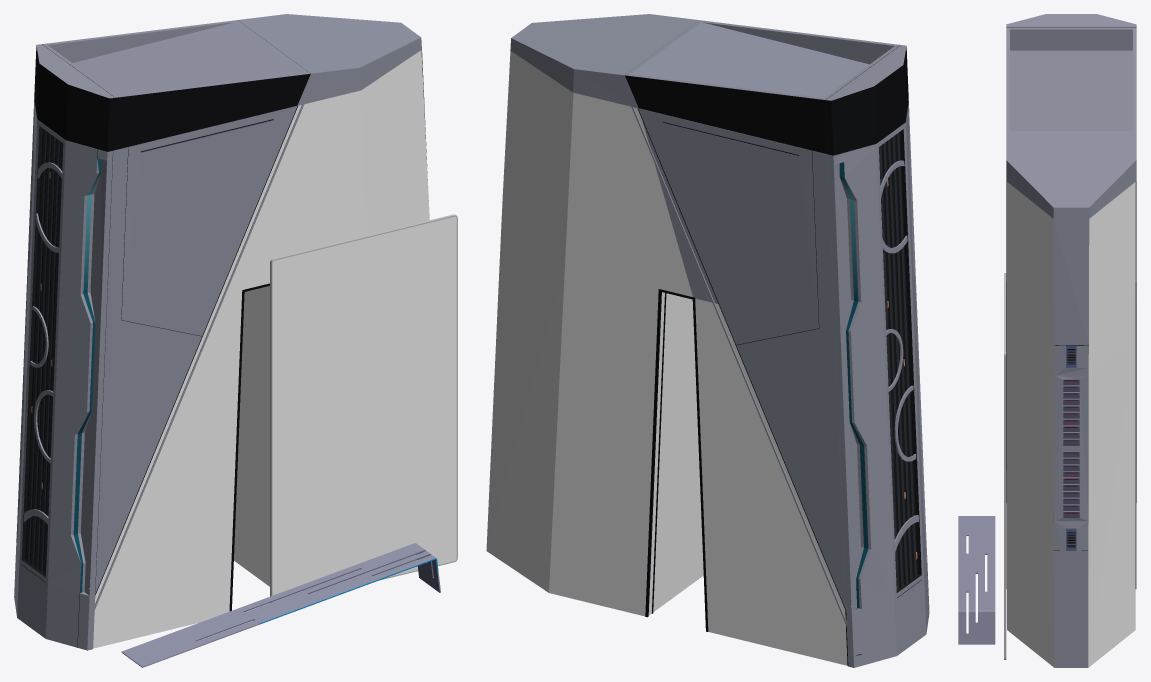
The model's file is Building_Hana_001_2st_L1.fbx.
3 renders of one model, left to right at view 1: azimuth 30°, elevation 25°; view 2: azimuth 150°, elevation 25°; view 3: azimuth 270°, elevation 25°, orthographic. The views are drawn at different scales.
Visible parts, largest first — view 1: Building_Hana_001_2st_L1; view 2: Building_Hana_001_2st_L1; view 3: Building_Hana_001_2st_L1.
Part boxes in pixels (x1,y1,x2,y2): Building_Hana_001_2st_L1: [14, 14, 457, 667]; Building_Hana_001_2st_L1: [486, 14, 929, 667]; Building_Hana_001_2st_L1: [958, 14, 1136, 667].
Bounding box in the file's own units: 58.59 × 76.63 × 25.15.
